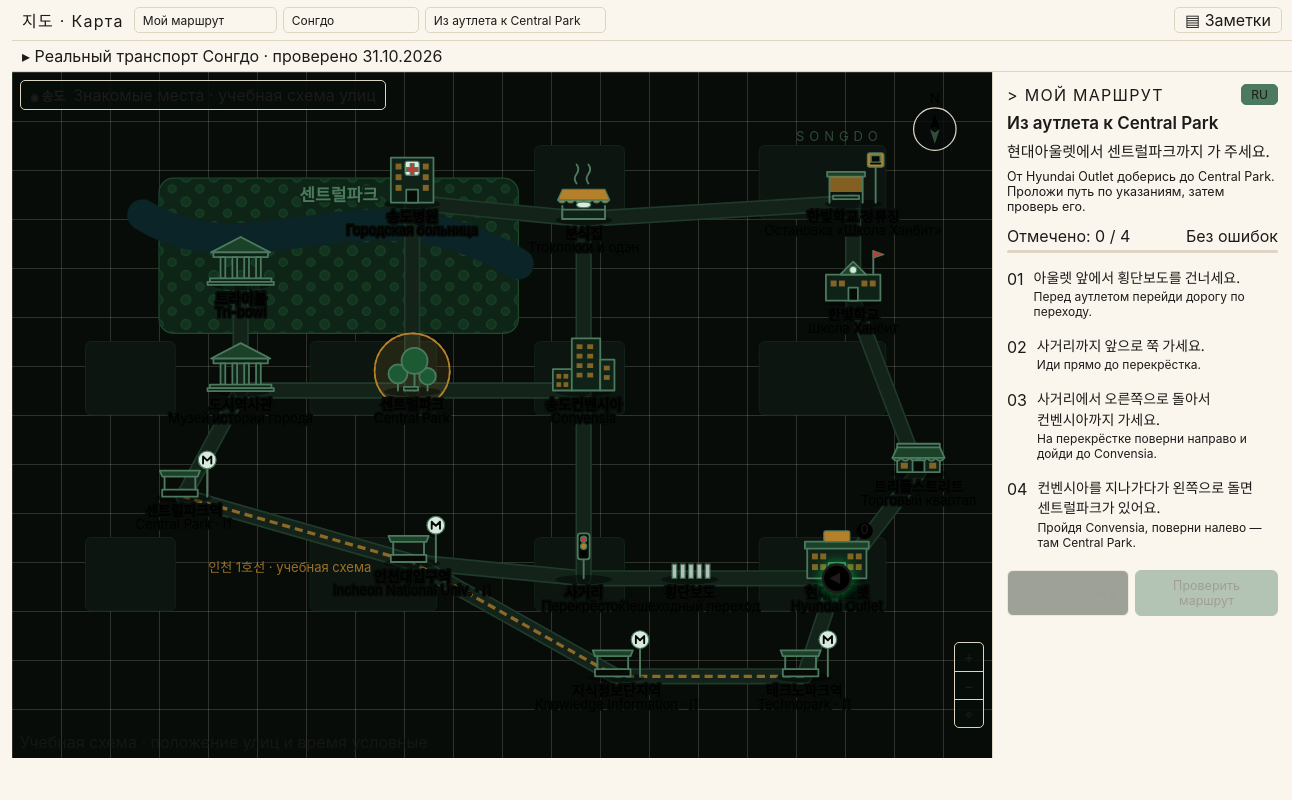
Переключение маршрутов › восстанавливает район и сценарий при смене роли
Select "Помочь брату 지아" in the dropdown named "Тип задания": (205, 20) [134,7,277,33]
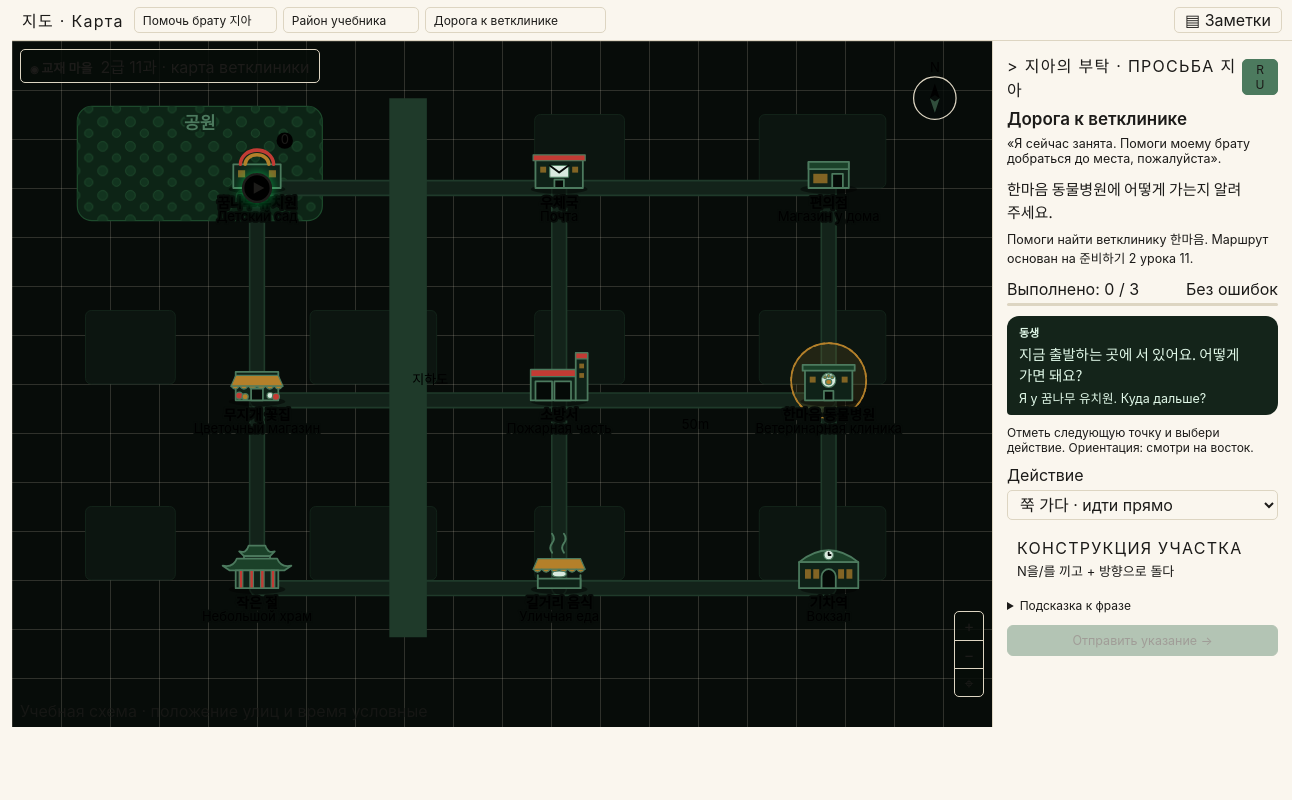
expect the icon named "Карта: Район учебника" is shown: met
expect the heading "Дорога к ветклинике" is shown: met, box [1007,109,1187,129]
Select "Мой маршрут" in the dropdown named "Тип задания": (205, 20) [134,7,277,33]
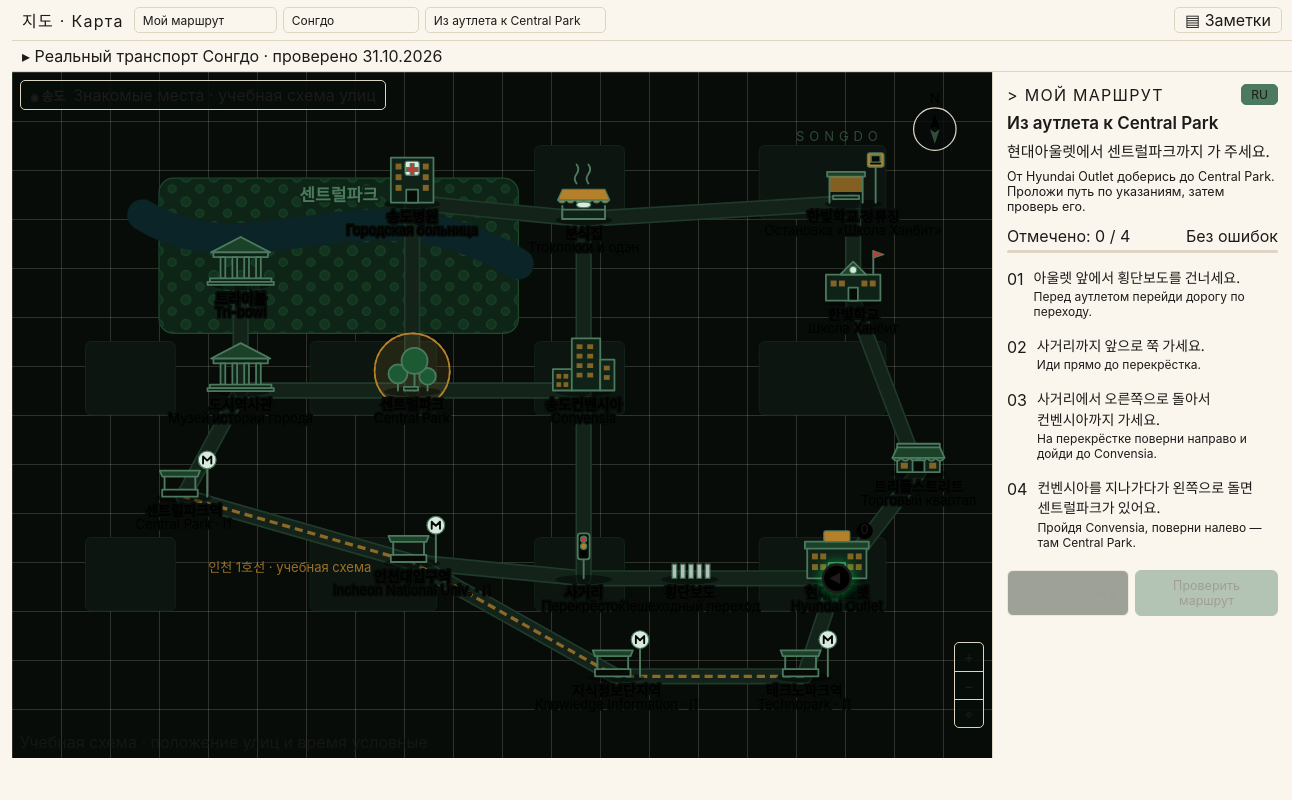
expect the icon named "Карта: Сонгдо" is shown: met
expect the heading "Из аутлета к Central Park" is shown: met, box [1007,113,1218,133]
